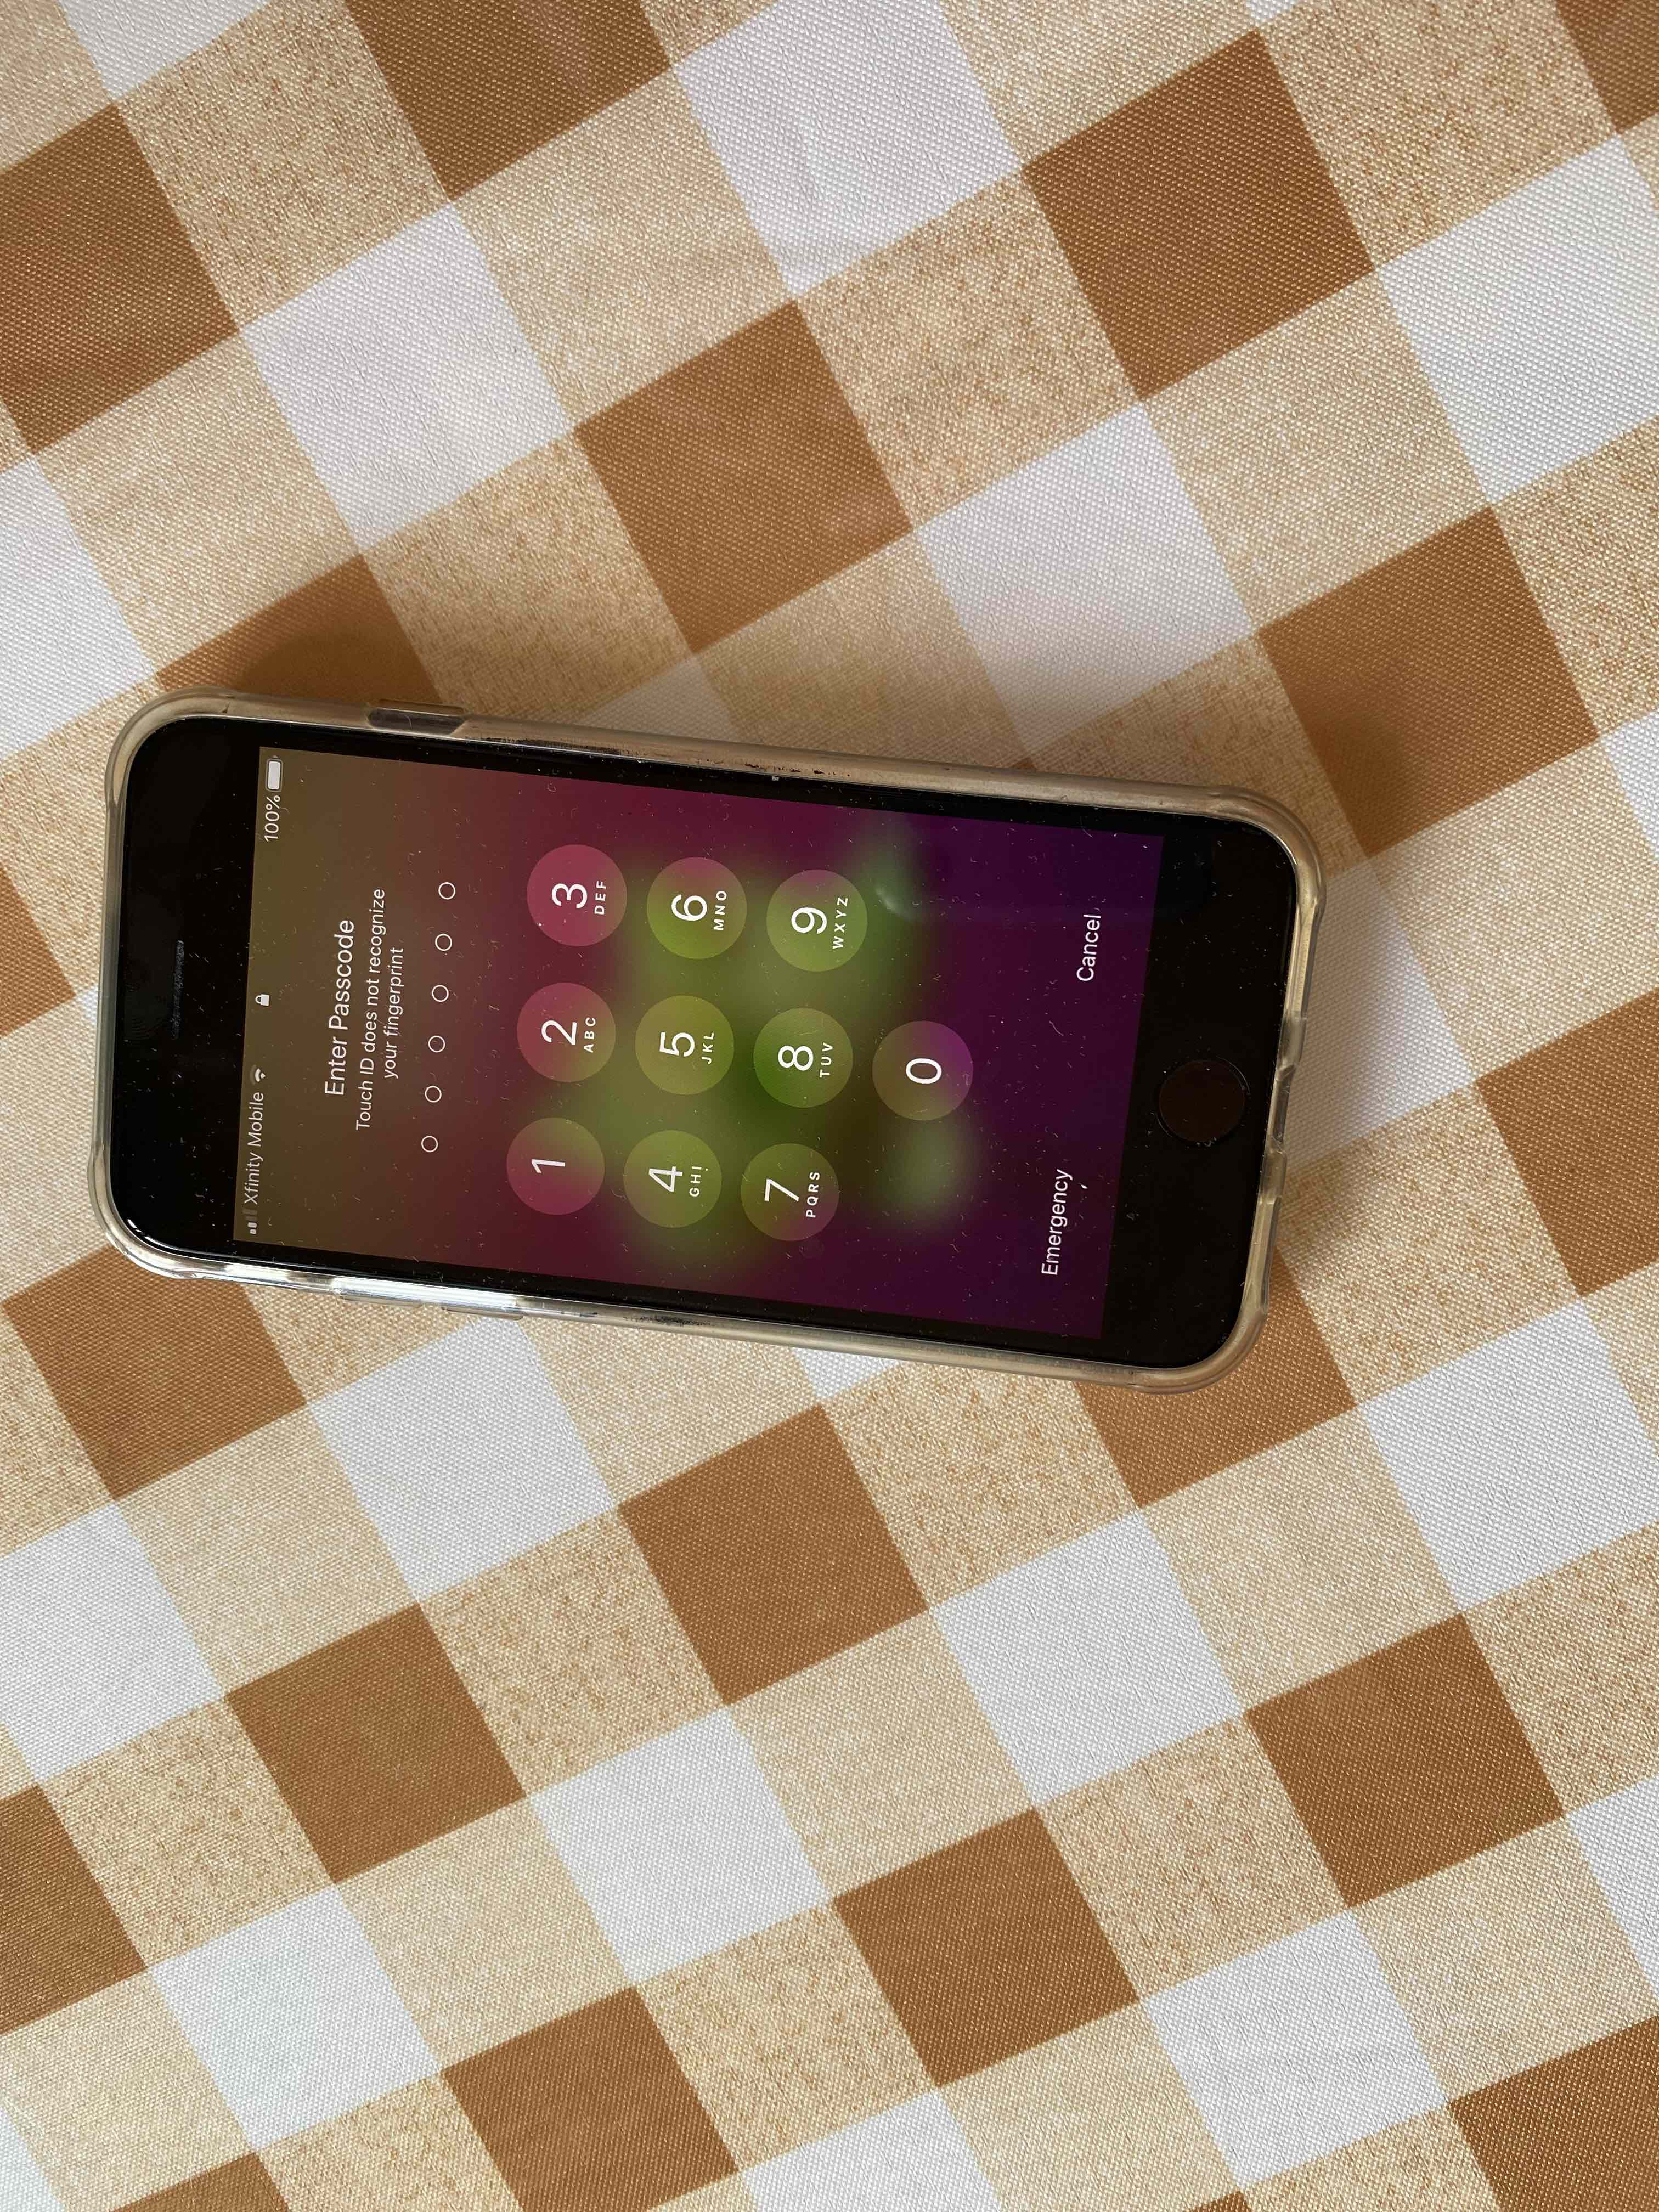Cell Phone: (94, 685, 1324, 1400)
